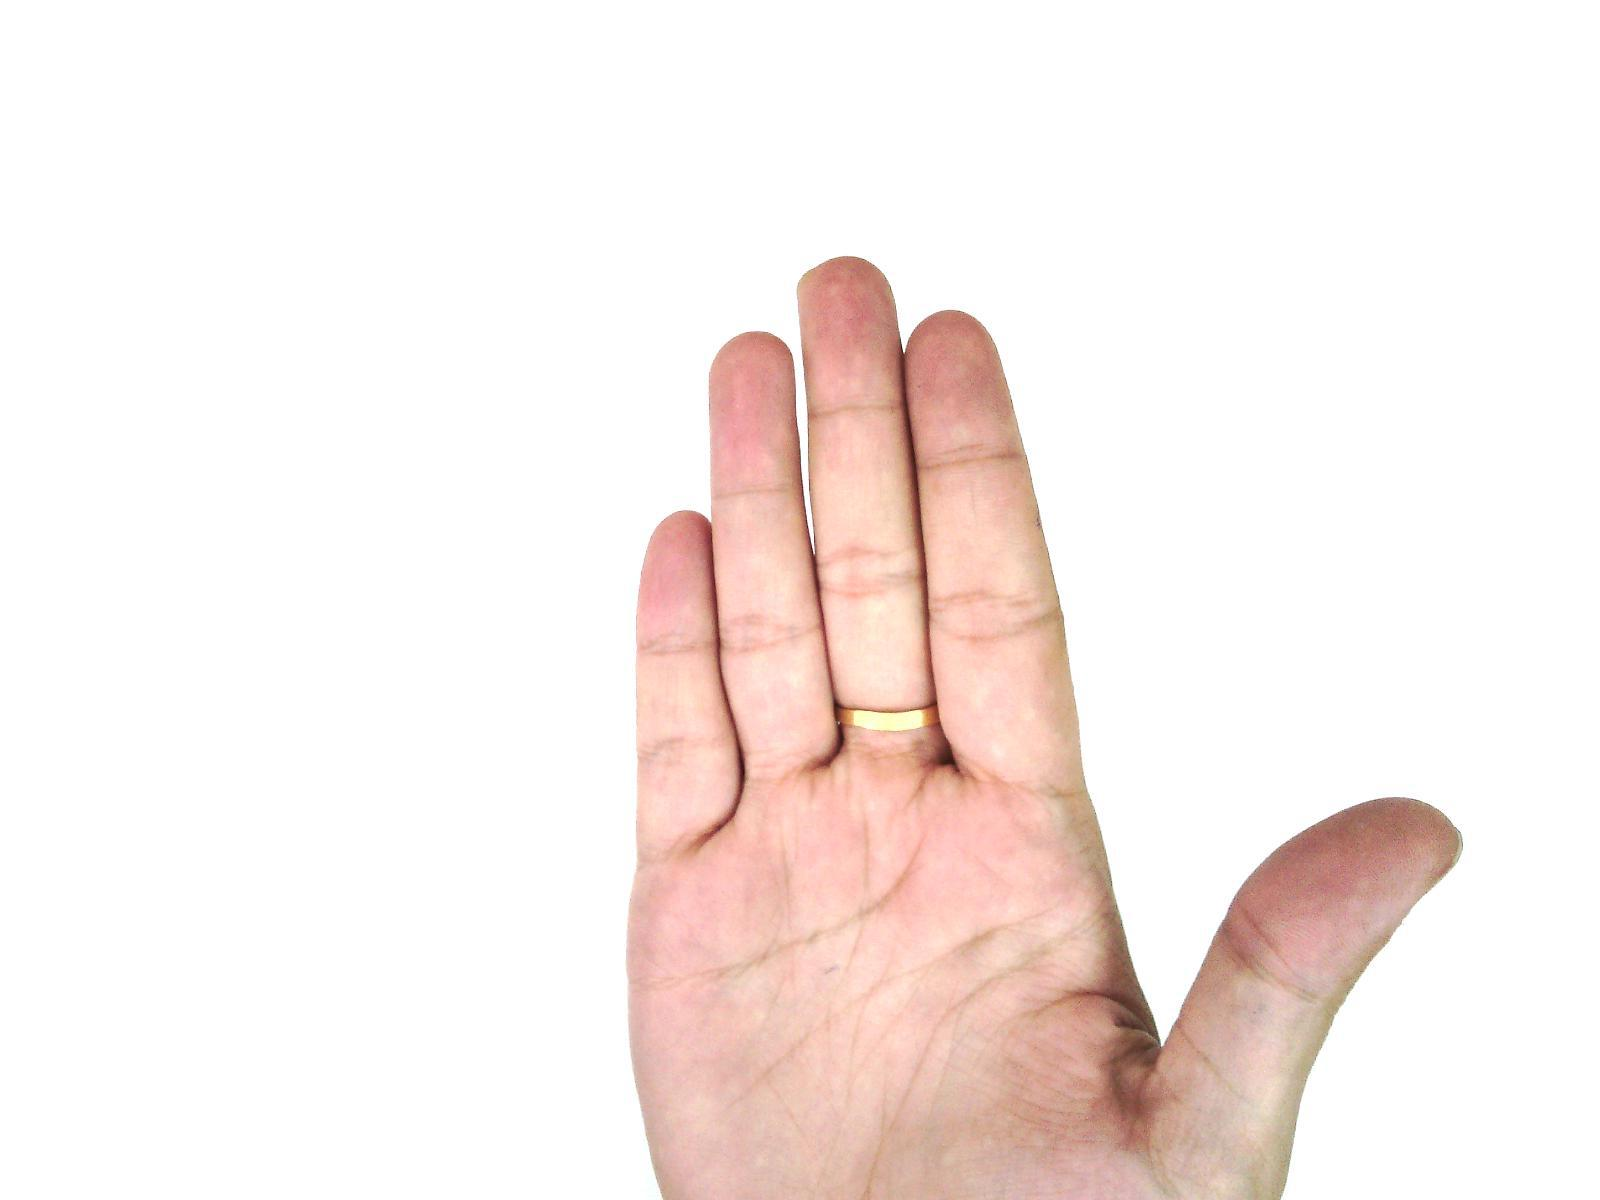hand: (621, 247, 1468, 1200)
